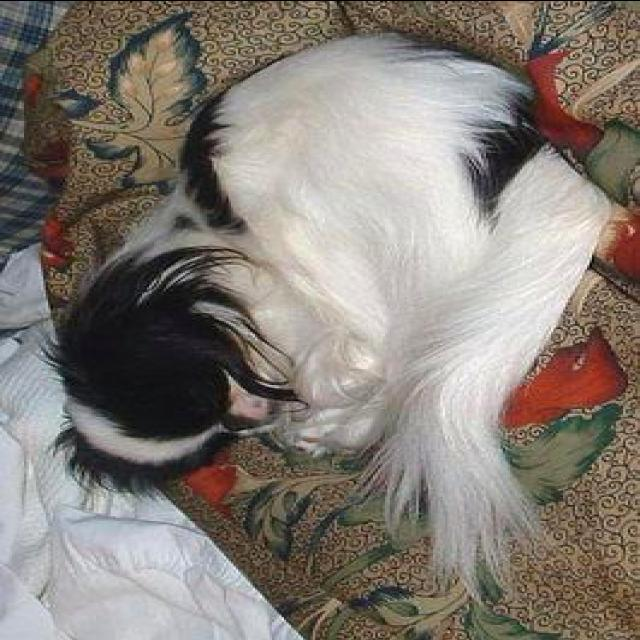husky: (51, 31, 608, 604)
